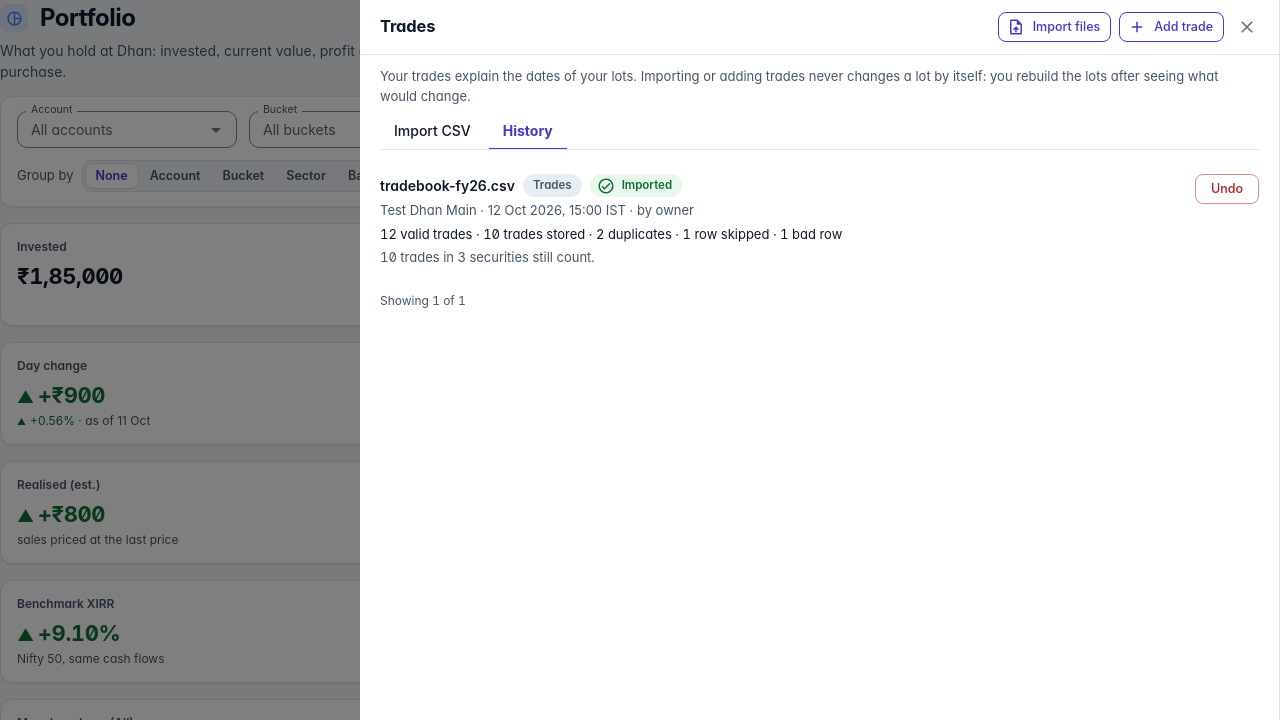
Test case: Undo an import › asks the API what the undo would do and says it before anything happens, starting on Cancel
Step 1. Click the button with aria-label "Undo the import of tradebook-fy26.csv" → [1227, 189], box [1195,174,1259,204]
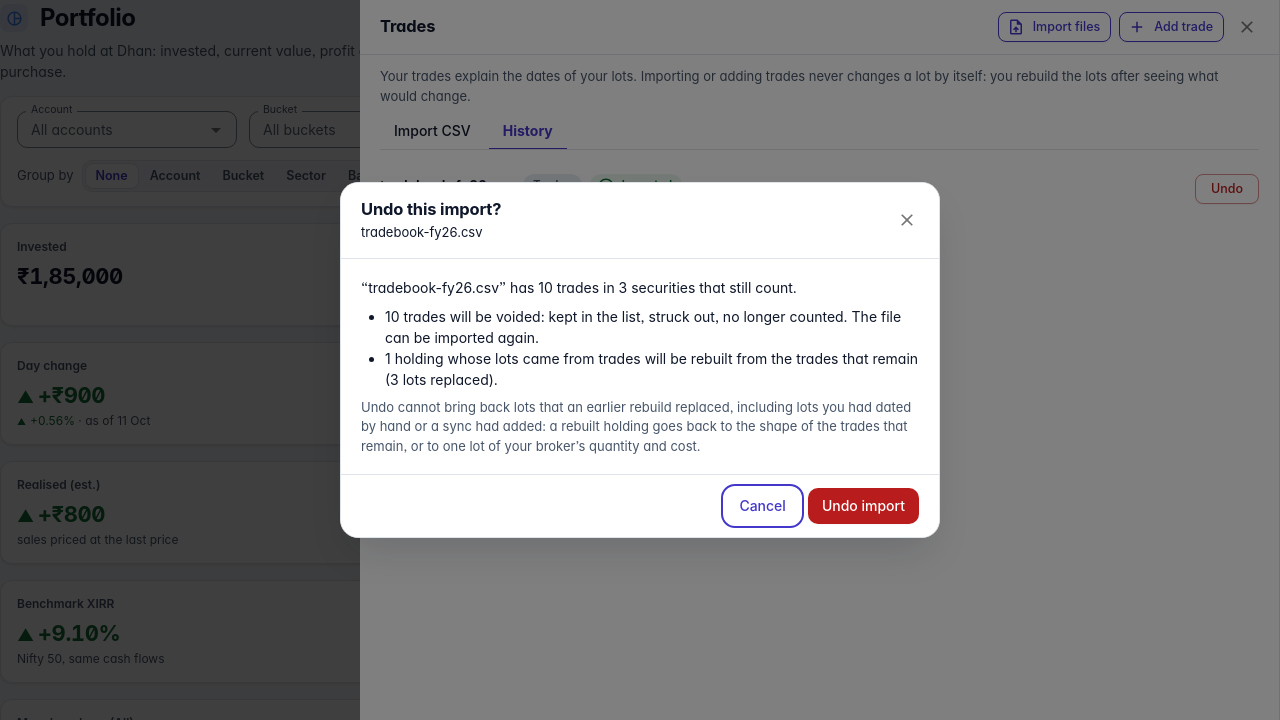
Expected: the text "“tradebook-fy26.csv” has 10 trades in 3 securities that still count." is shown, [361,278,797,296]
Expected: the list item "10 trades will be voided: kept in the list, struck out, no longer counted" is shown, [385,308,901,346]
Expected: the list item "1 holding whose lots came from trades will be rebuilt from the trades that remain (3 lots replaced)" is shown, [385,350,918,388]
